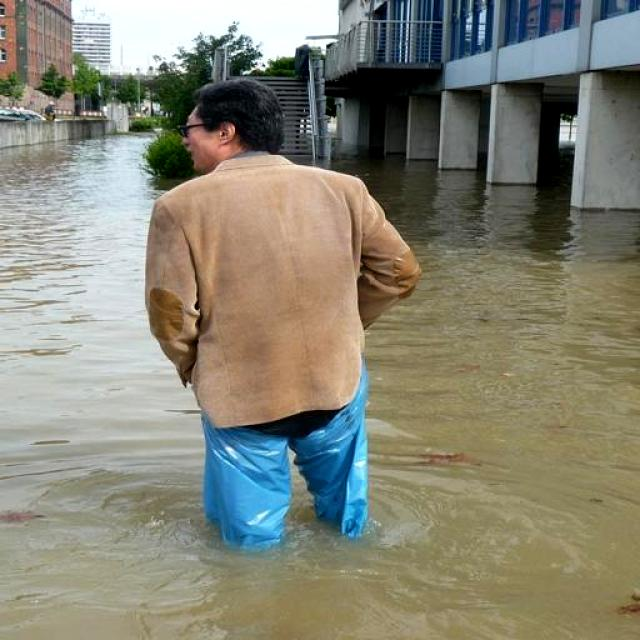civilian: (122, 49, 423, 574)
